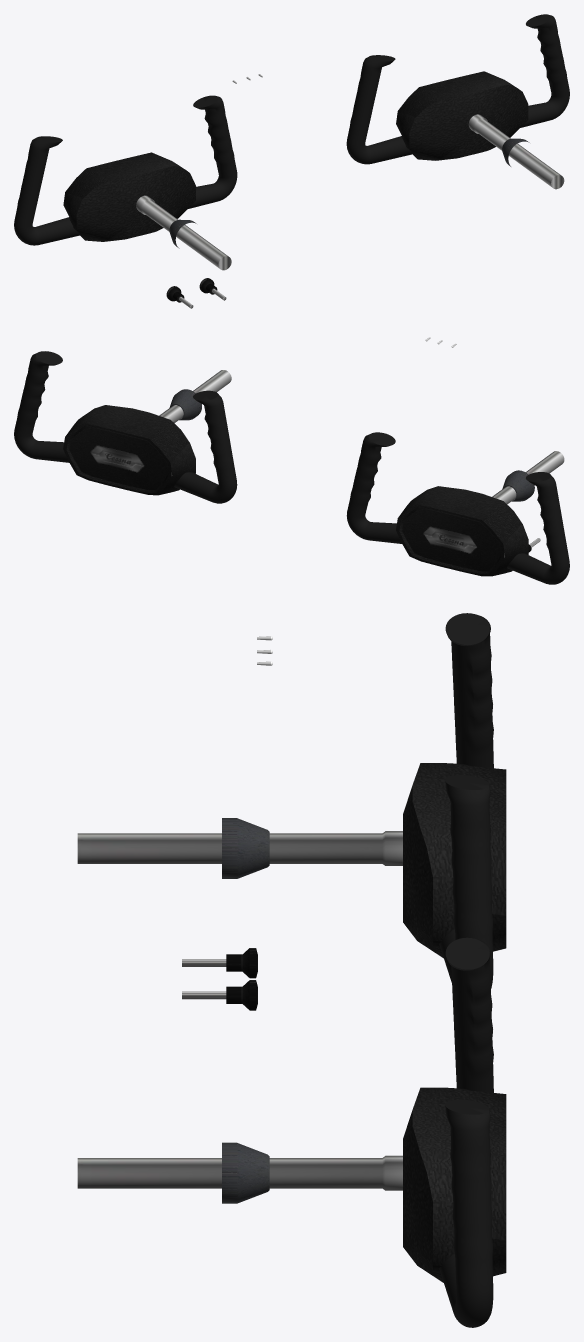
File: interior.gltf
The picture shows the model from 3 angles, top to bottom: view 1: azimuth 30°, elevation 25°; view 2: azimuth 150°, elevation 25°; view 3: azimuth 270°, elevation 25°; orthographic projection. The views are drawn at different scales.
Parts seen in each view (by area): view 1: Interior; view 2: Interior; view 3: Interior.
Boxes of the visible parts, x1=… form: Interior: x1=14, y1=14, x2=569, y2=308; Interior: x1=14, y1=337, x2=569, y2=584; Interior: x1=77, y1=613, x2=506, y2=1327.
Bounding box in the file's own units: 0.8385 × 0.2917 × 0.2814.
6 materials, 4 textured.
